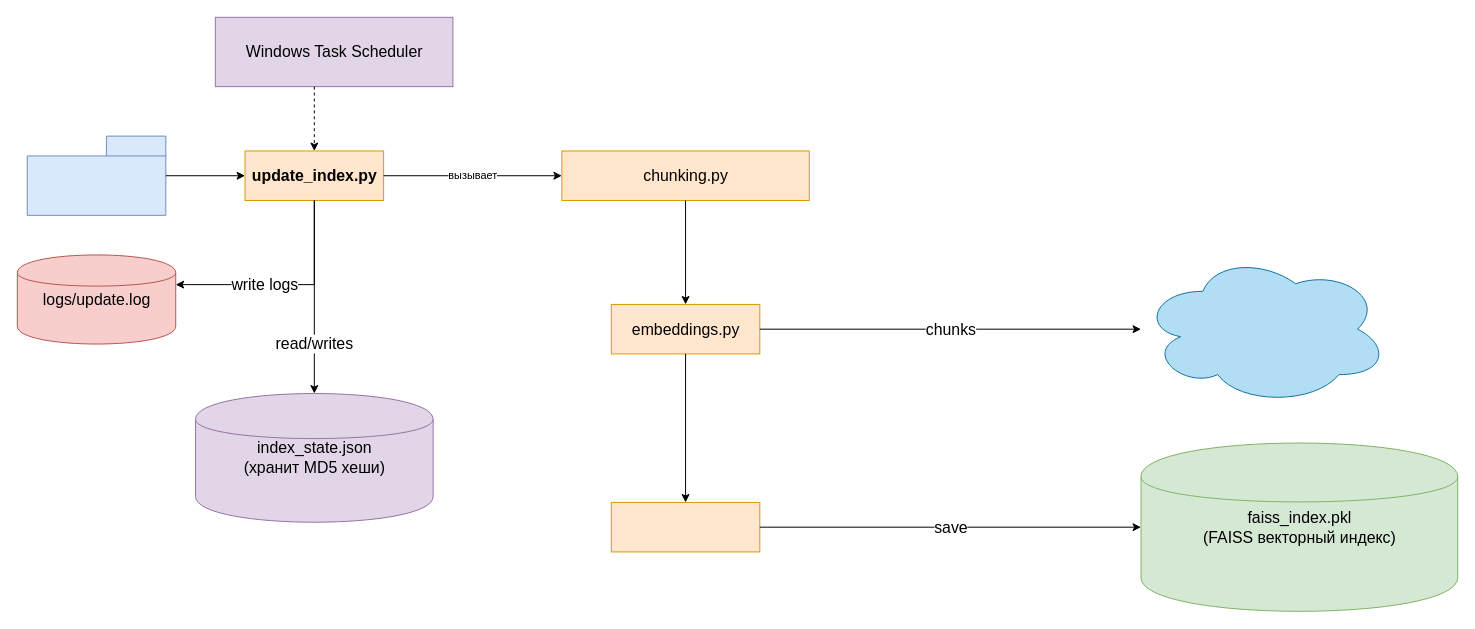
The diagram is 1475 pixels wide and 629 high, and some of its shapes have lost their labels. Here are the shapes that lost their labels. From the top down, the box of each, then its label:
(26, 135, 166, 215): knowledge_base/
(1140, 252, 1388, 405): Yandex GPT API (text_search_doc)
(610, 501, 760, 552): build_index.py
